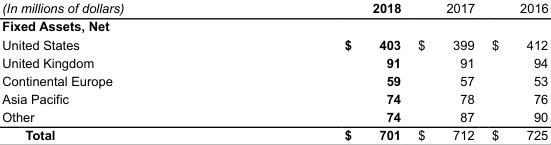table: (1, 0, 547, 141)
table column: (1, 0, 233, 141), (233, 0, 408, 141), (408, 0, 482, 141), (482, 0, 547, 141)
table column header: (1, 0, 547, 16)
table projected row header: (1, 16, 547, 34)
table row: (1, 34, 547, 53), (1, 16, 547, 34), (1, 53, 547, 71), (1, 71, 547, 89), (1, 89, 547, 107), (1, 107, 547, 125), (1, 0, 547, 16), (1, 125, 547, 141)
